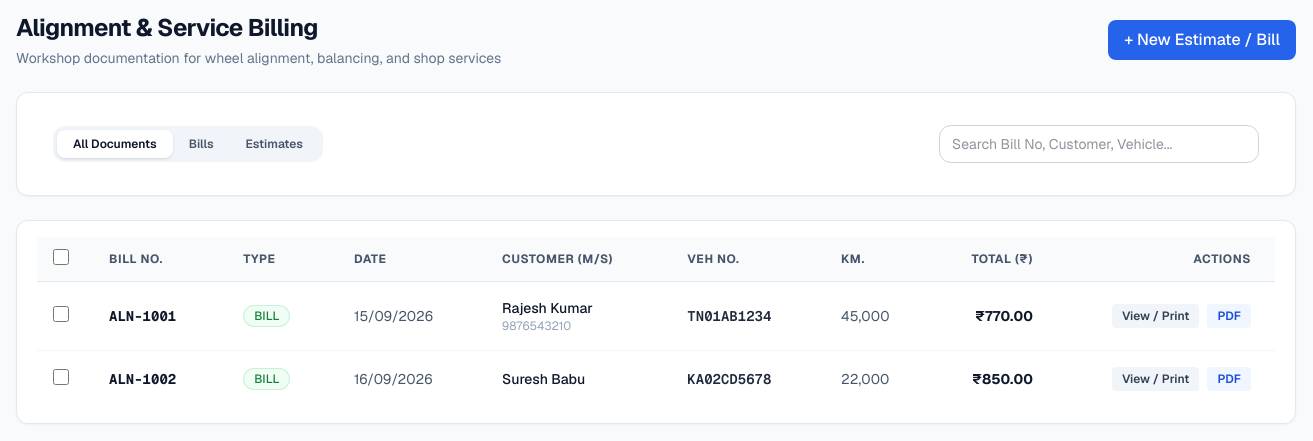
Test: AlignmentBillingPage History & Permanent Delete Component Tests › selects all rows when header checkbox is clicked
The image size is (1313, 441).
Expected: the link "ALN-1001" is shown, [109,307,176,325]
Click the checkbox named "Select all documents" at point(61, 257), box [53,249,69,265]
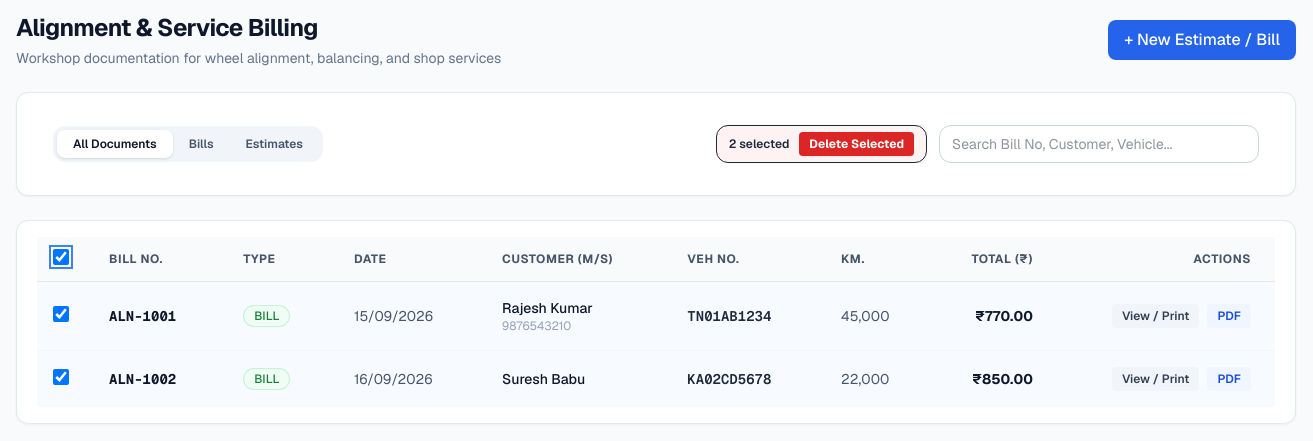
Now the text "2 selected" is shown, box [729,136,789,152]
Now the checkbox named "Select bill ALN-1001" is checked, box [53,306,69,322]
Now the checkbox named "Select bill ALN-1002" is checked, box [53,368,69,384]
// Uncheck header checkbox
Click the checkbox named "Select all documents" at point(61, 257), box [53,249,69,265]
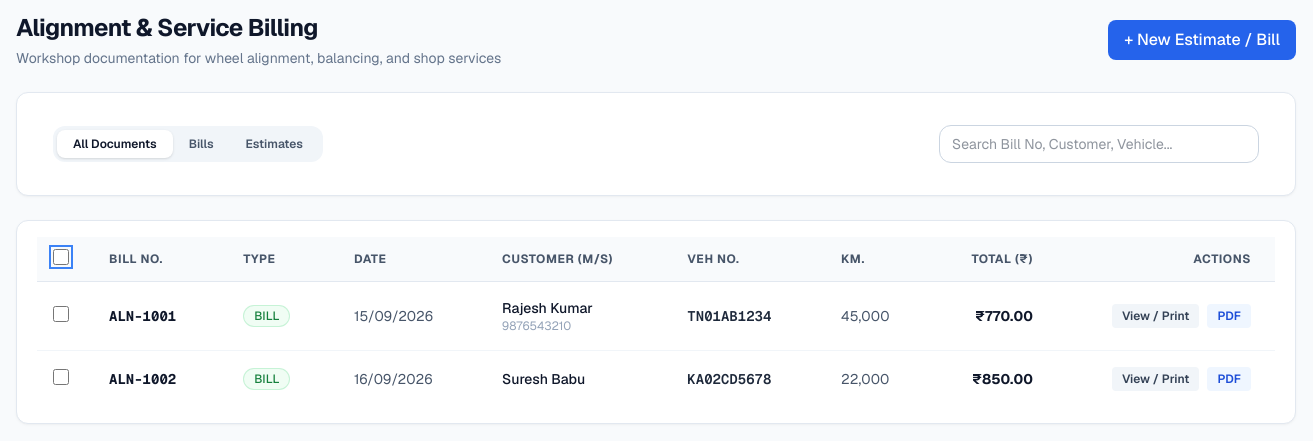
Now the text "selected" is gone
